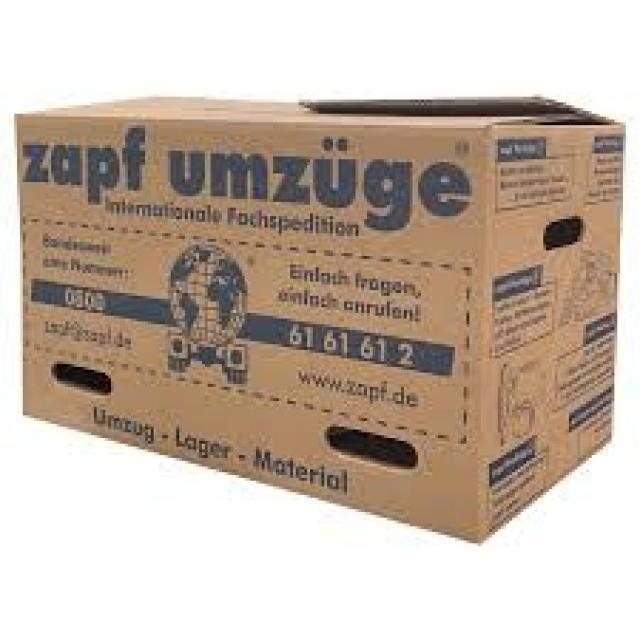cardboard paper: (16, 97, 622, 537)
